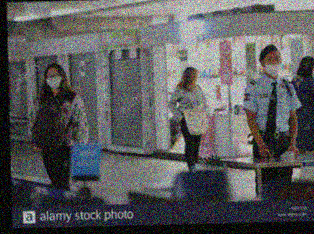mask_weared_incorrect: (262, 54, 282, 77)
with_mask: (44, 72, 64, 90)
